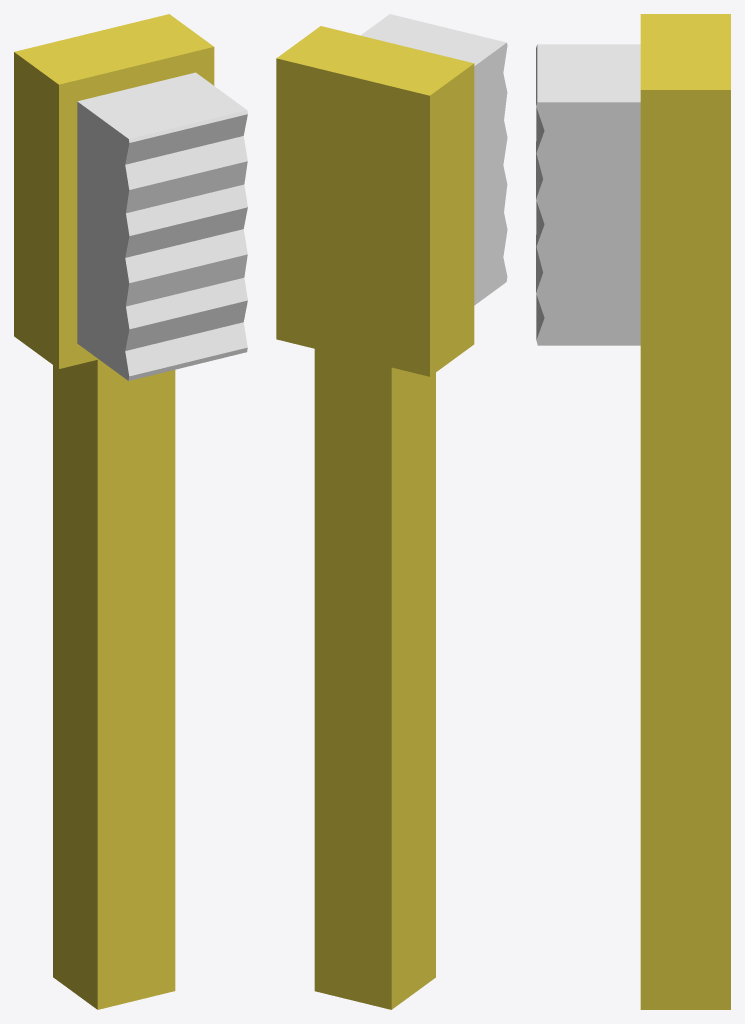
Rendered from toothbrush.fbx.
3 views of the same model, side by side, from view 1: azimuth 30°, elevation 25°; view 2: azimuth 150°, elevation 25°; view 3: azimuth 270°, elevation 25° (orthographic).
Parts seen in each view (by area): view 1: 개체_2, 개체_1; view 2: 개체_2, 개체_1; view 3: 개체_2, 개체_1.
Part boxes in pixels (x1,y1,x2,y2): 개체_2: (14, 14, 214, 1009); 개체_1: (77, 72, 247, 380); 개체_2: (276, 26, 474, 1009); 개체_1: (360, 14, 507, 305); 개체_2: (640, 14, 730, 1009); 개체_1: (536, 44, 640, 345).
Size of the model in its own units: 5.13 by 5.55 by 29.52.
